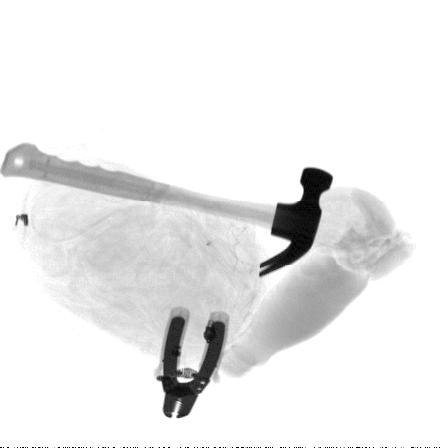Hammer: (0, 143, 334, 277)
Pliers: (154, 306, 231, 419)
